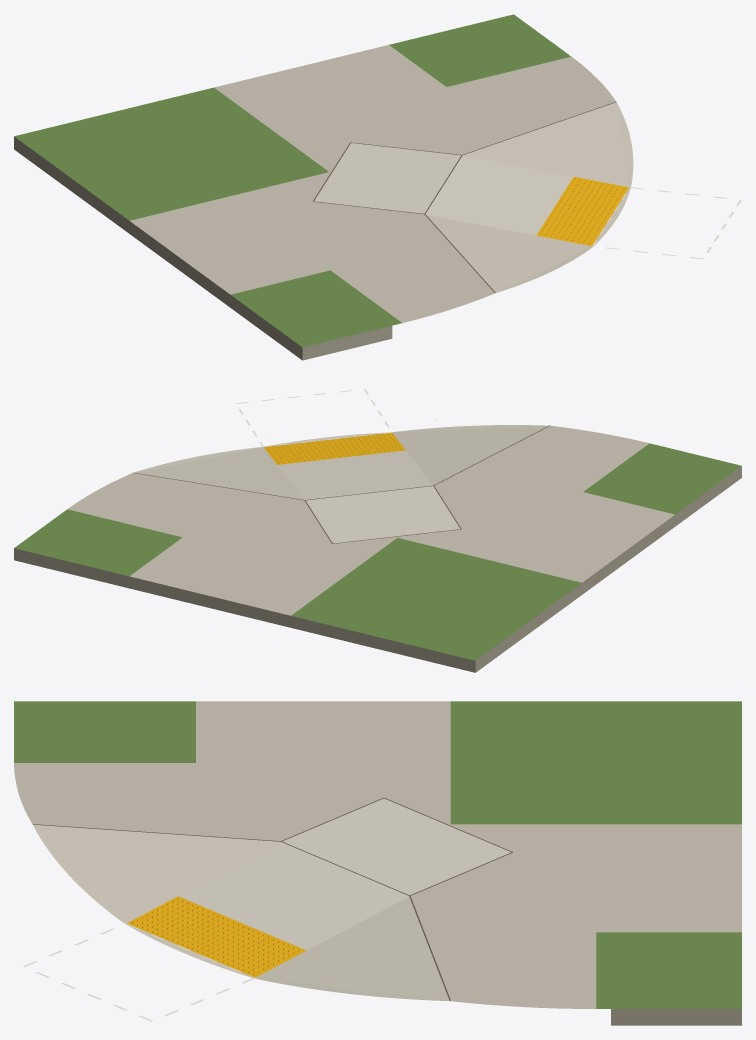
Rendered from ramp-422f.glb.
3 views of the same model, one above another, from view 1: azimuth 30°, elevation 25°; view 2: azimuth 150°, elevation 25°; view 3: azimuth 270°, elevation 25° (orthographic). The views are drawn at different scales.
Visible parts, largest first — view 1: Seattle Type 422F: Shared diagonal ramp; view 2: Seattle Type 422F: Shared diagonal ramp; view 3: Seattle Type 422F: Shared diagonal ramp.
Part boxes in pixels (x1,y1,x2,y2): Seattle Type 422F: Shared diagonal ramp: [14, 14, 741, 360]; Seattle Type 422F: Shared diagonal ramp: [14, 389, 741, 672]; Seattle Type 422F: Shared diagonal ramp: [14, 701, 741, 1025].
Bounding box in the file's own units: 6.1 × 0.1554 × 6.1.
